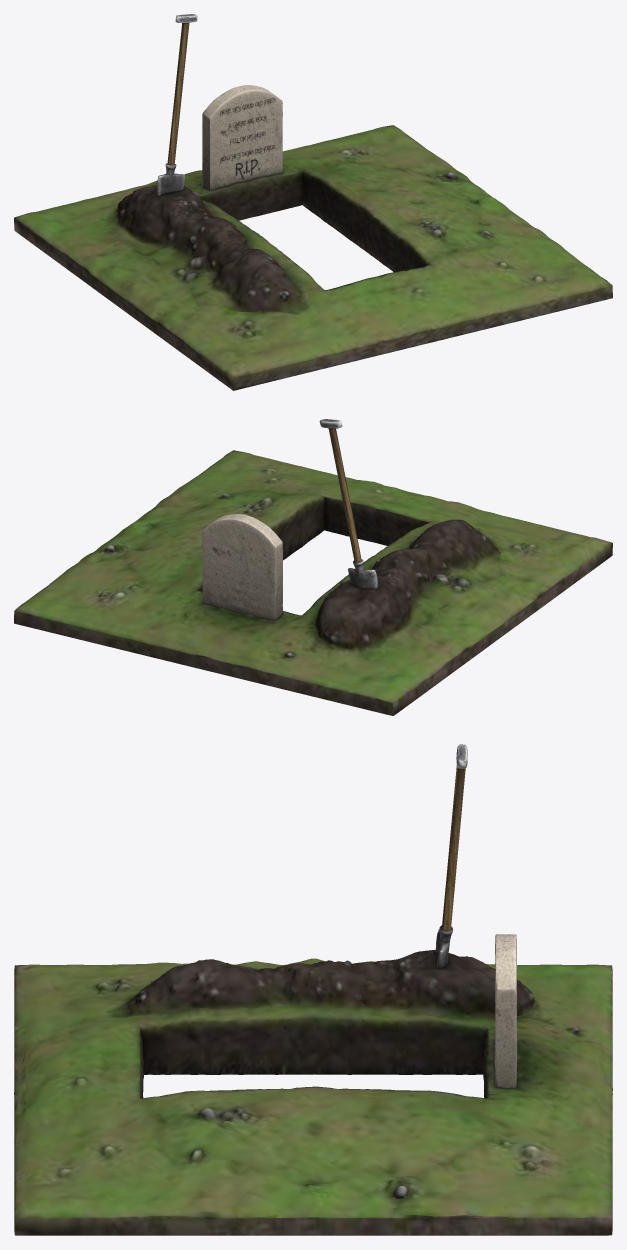
The model's file is MZ4250 - Open Grave Site_new.glb.
3 views of the same model, one above another, from view 1: azimuth 30°, elevation 25°; view 2: azimuth 150°, elevation 25°; view 3: azimuth 270°, elevation 25° (orthographic). The views are drawn at different scales.
Visible parts, largest first — view 1: Stuff.002; view 2: Stuff.002; view 3: Stuff.002.
Part boxes in pixels (x1,y1,x2,y2): Stuff.002: (14,14,612,390); Stuff.002: (14,419,612,715); Stuff.002: (14,744,612,1235).
Bounding box in the file's own units: 123 × 70.03 × 122.
Materials: 2 (2 with a texture image).
